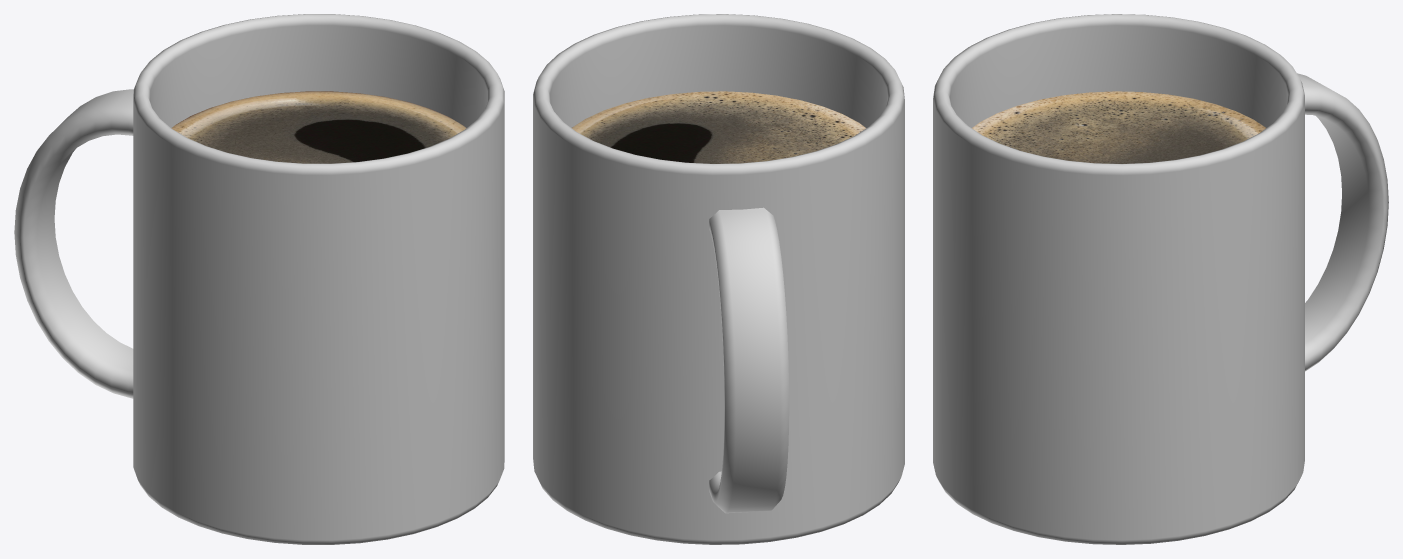
Rendered from Mug.fbx.
3 renders of one model, left to right at view 1: azimuth 30°, elevation 25°; view 2: azimuth 150°, elevation 25°; view 3: azimuth 270°, elevation 25°, orthographic.
Visible parts, largest first — view 1: Mug1; view 2: Mug1; view 3: Mug1.
Part boxes in pixels (x1,y1,x2,y2): Mug1: [14, 14, 504, 544]; Mug1: [533, 14, 904, 544]; Mug1: [933, 14, 1388, 544].
Size of the model in its own units: 2.78 by 2.93 by 3.17.
2 materials, 1 textured.
